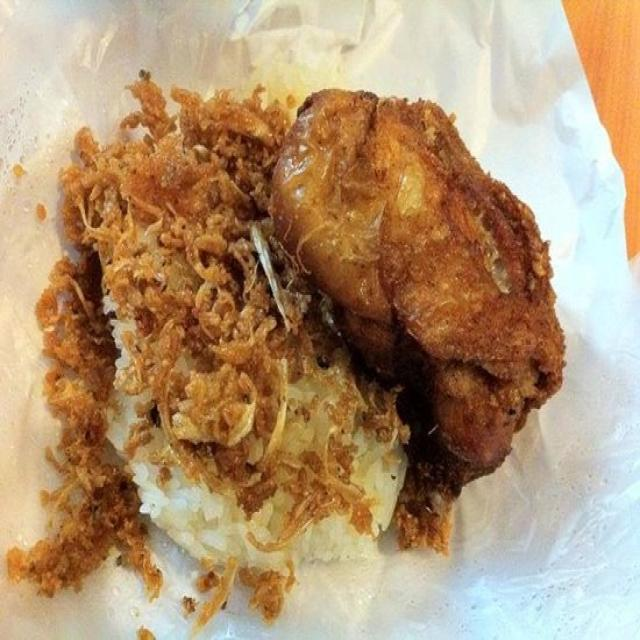cac loai rau cu: (76, 67, 282, 360), (27, 249, 115, 605)
thit ga: (286, 65, 577, 473)
xoi: (121, 375, 407, 567)
xoi ga chien: (28, 34, 571, 633)
